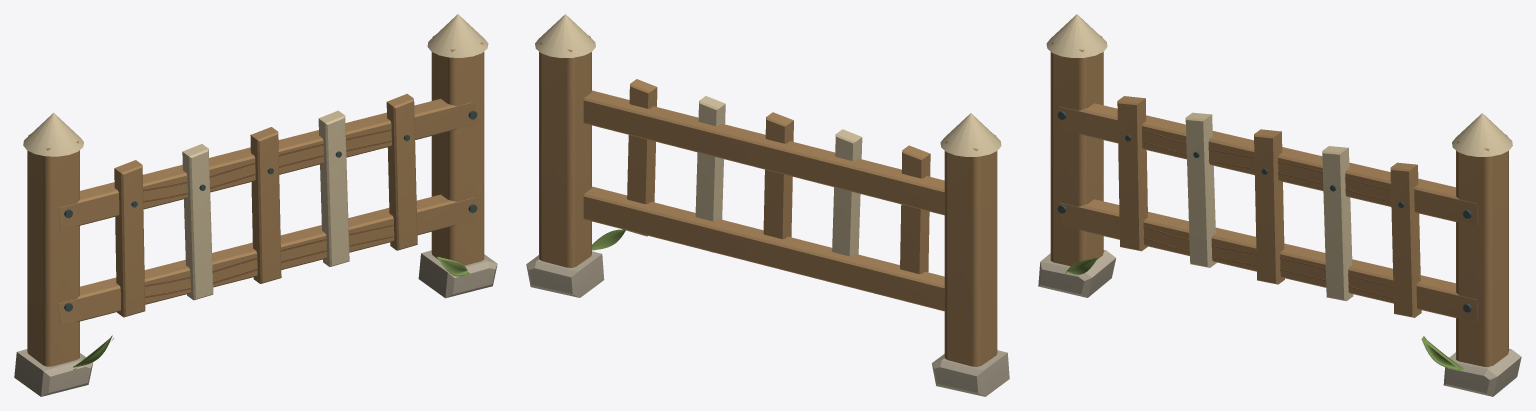
Rendered from cerca.glb.
3 renders of one model, left to right at view 1: azimuth 30°, elevation 25°; view 2: azimuth 150°, elevation 25°; view 3: azimuth 330°, elevation 25°, orthographic.
Parts seen in each view (by area): view 1: cerca; view 2: cerca; view 3: cerca.
Boxes of the visible parts, x1,y1,x2,y2 form: cerca: (14,14,497,396); cerca: (526,14,1009,396); cerca: (1038,14,1521,396).
Bounding box in the file's own units: 2.16 × 1.21 × 0.3115.
